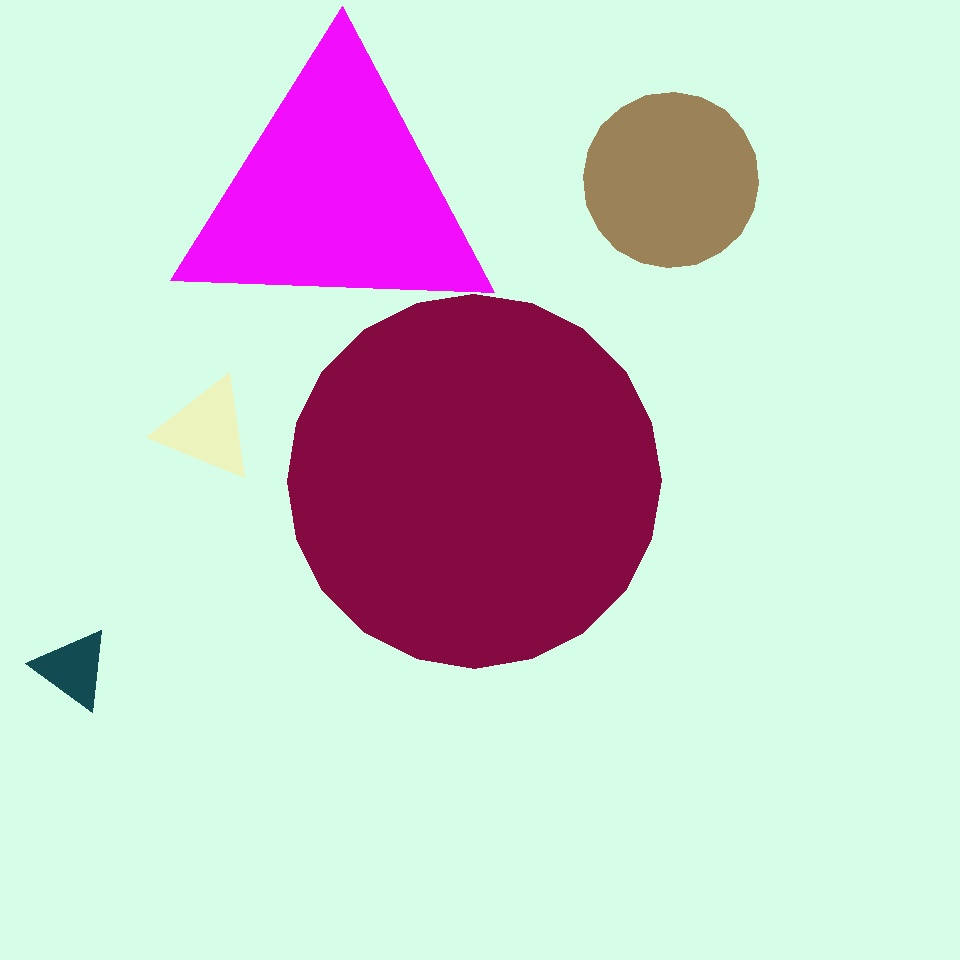circle: (174, 50, 498, 336), (158, 376, 256, 482), (35, 628, 111, 710)
triangle: (287, 294, 661, 668), (584, 92, 758, 268)
